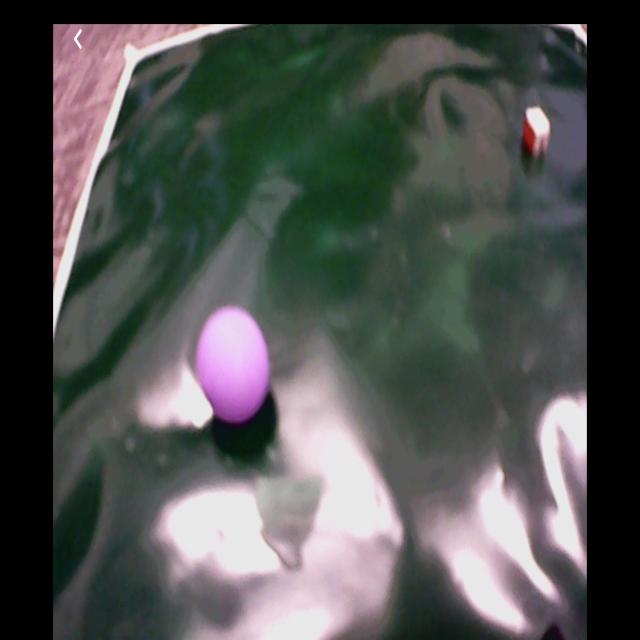ball: (198, 307, 269, 421)
